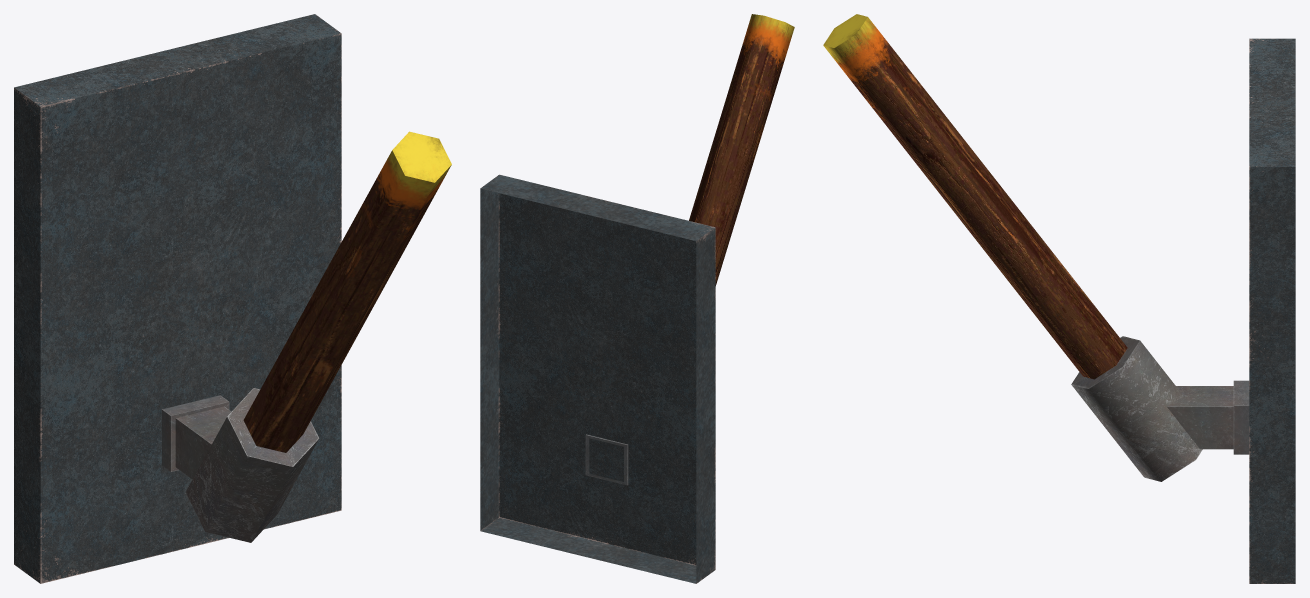
Rendered from Light_5.FBX.
3 renders of one model, left to right at view 1: azimuth 30°, elevation 25°; view 2: azimuth 150°, elevation 25°; view 3: azimuth 270°, elevation 25°, orthographic. The views are drawn at different scales.
Visible parts, largest first — view 1: Light_5; view 2: Light_5; view 3: Light_5.
Part boxes in pixels (bbox=[...]): Light_5: bbox=[14, 14, 451, 583]; Light_5: bbox=[480, 14, 794, 583]; Light_5: bbox=[823, 14, 1295, 583].
Size of the model in its own units: 12.38 by 22.6 by 19.25.
